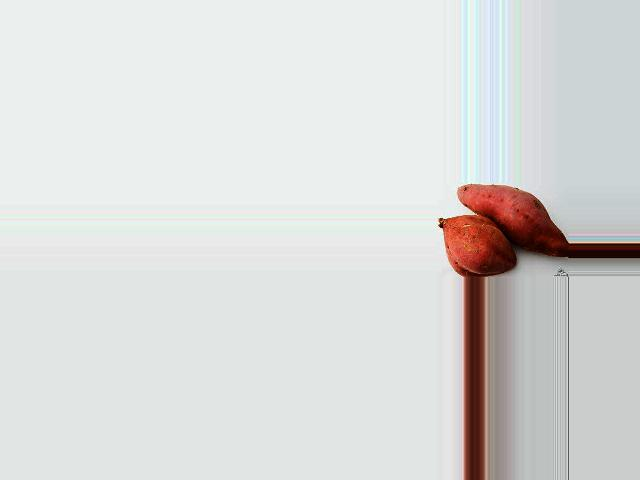sweet_potato: (437, 220, 512, 269)
